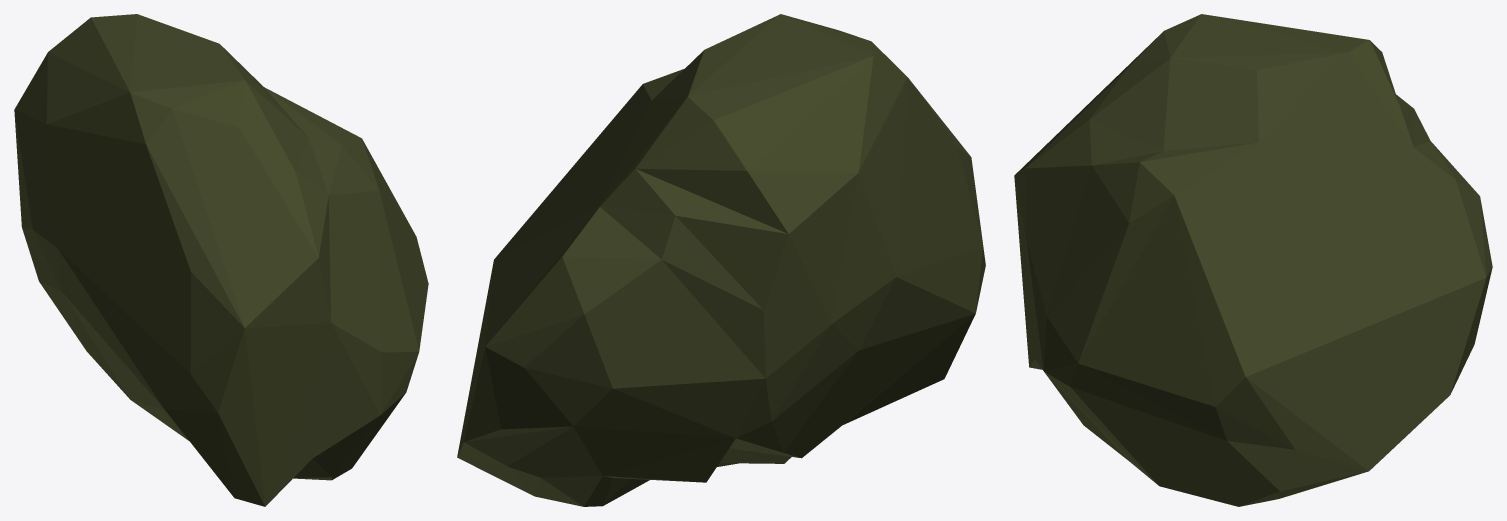
File: SM_small_rock_20.fbx
3 views of the same model, side by side, from view 1: azimuth 30°, elevation 25°; view 2: azimuth 150°, elevation 25°; view 3: azimuth 270°, elevation 25° (orthographic). The views are drawn at different scales.
Parts seen in each view (by area): view 1: small_rock_20; view 2: small_rock_20; view 3: small_rock_20.
Boxes of the visible parts, x1,y1,x2,y2 form: small_rock_20: [14, 14, 428, 506]; small_rock_20: [457, 14, 985, 506]; small_rock_20: [1014, 14, 1492, 506].
Bounding box in the file's own units: 12.17 × 13.71 × 15.14.
